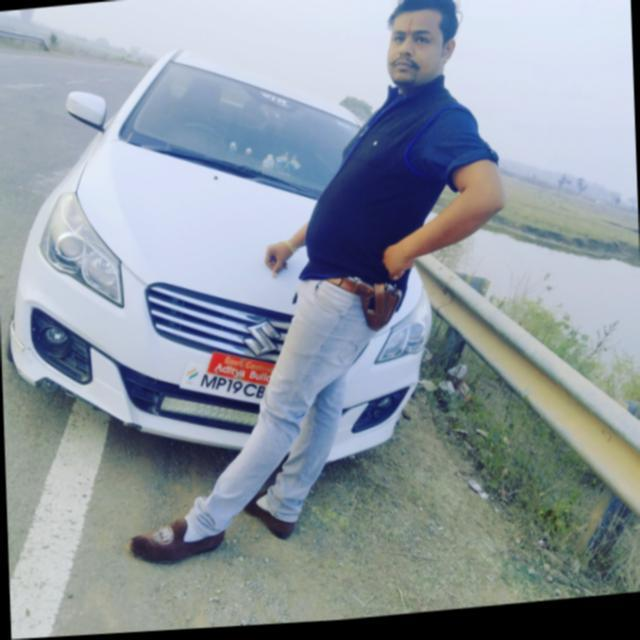weapon: (352, 280, 404, 339)
